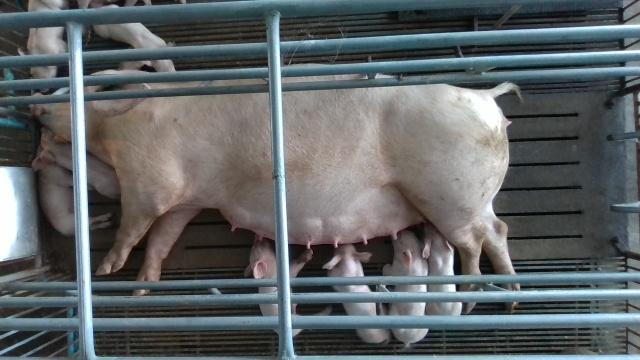piglet: (245, 232, 333, 337), (32, 144, 111, 236), (322, 244, 389, 342), (42, 125, 121, 200), (91, 5, 176, 71), (384, 229, 429, 345), (18, 0, 68, 94), (423, 221, 462, 316)
sow-sleep-lactate: (29, 64, 523, 311)
